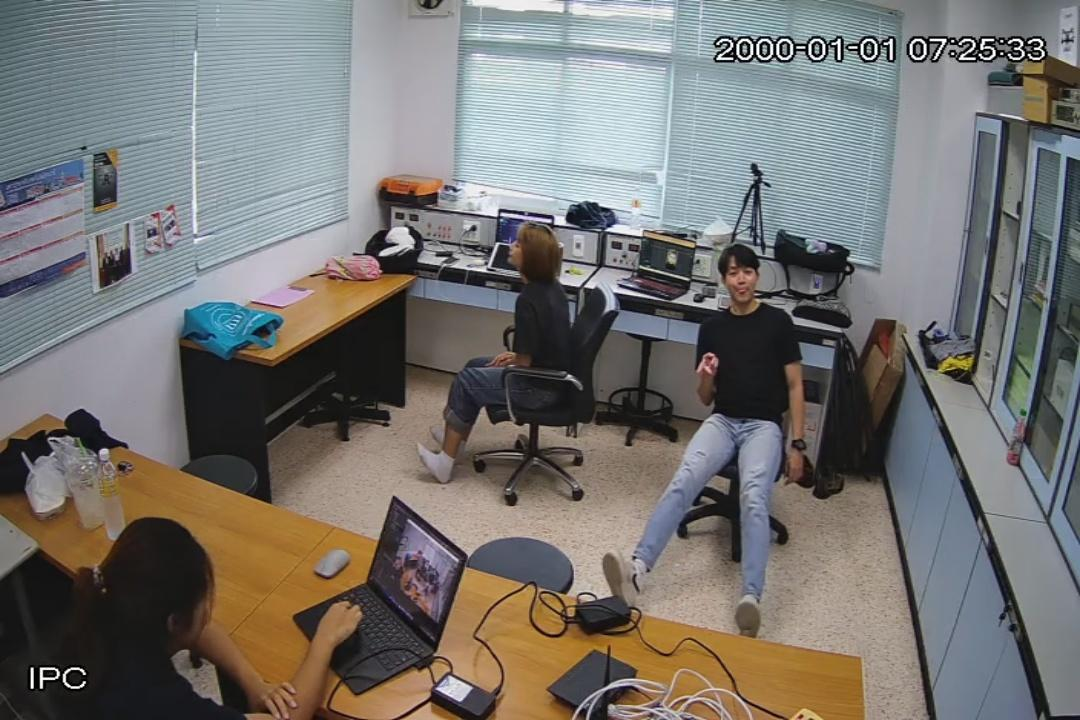normal: (606, 248, 806, 638), (414, 214, 578, 488)
